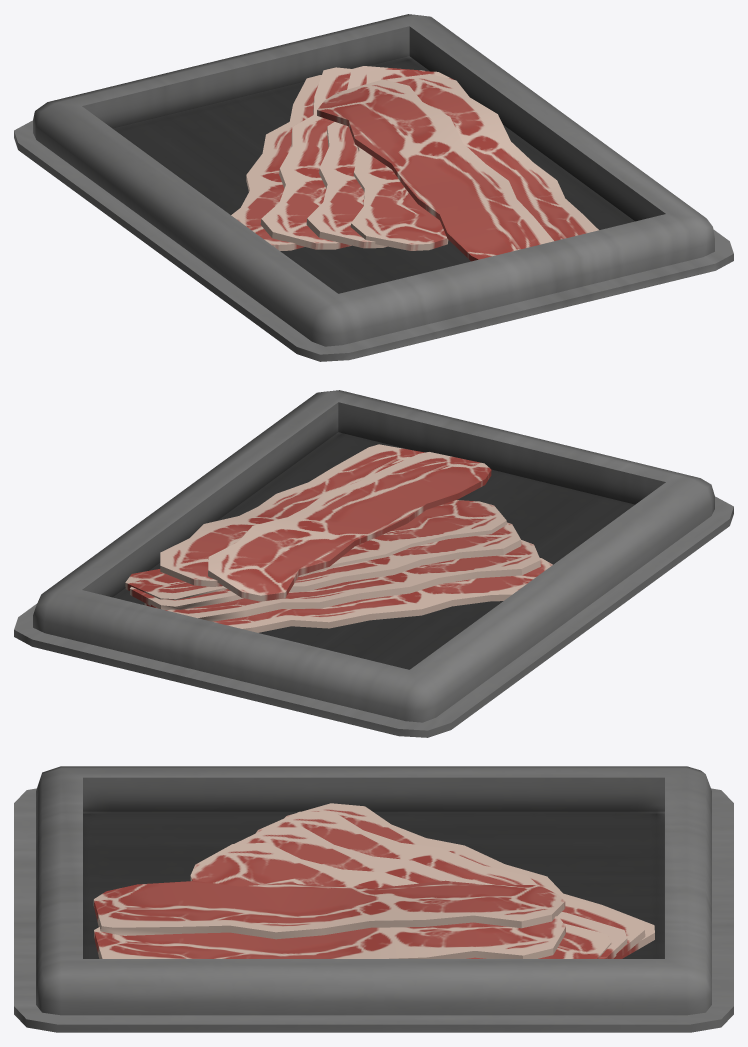
File: rack_bacon.FBX
3 views of the same model, one above another, from view 1: azimuth 30°, elevation 25°; view 2: azimuth 150°, elevation 25°; view 3: azimuth 270°, elevation 25° (orthographic). The views are drawn at different scales.
Parts seen in each view (by area): view 1: rack_bacon; view 2: rack_bacon; view 3: rack_bacon.
Part boxes in pixels (<box>): rack_bacon: <box>14,14,733,361</box>; rack_bacon: <box>14,390,733,737</box>; rack_bacon: <box>14,766,733,1032</box>.
Size of the model in its own units: 22.34 by 2.11 by 28.36.
